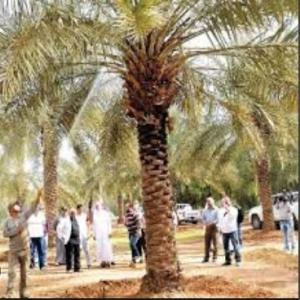palm tree: (0, 0, 298, 295)
